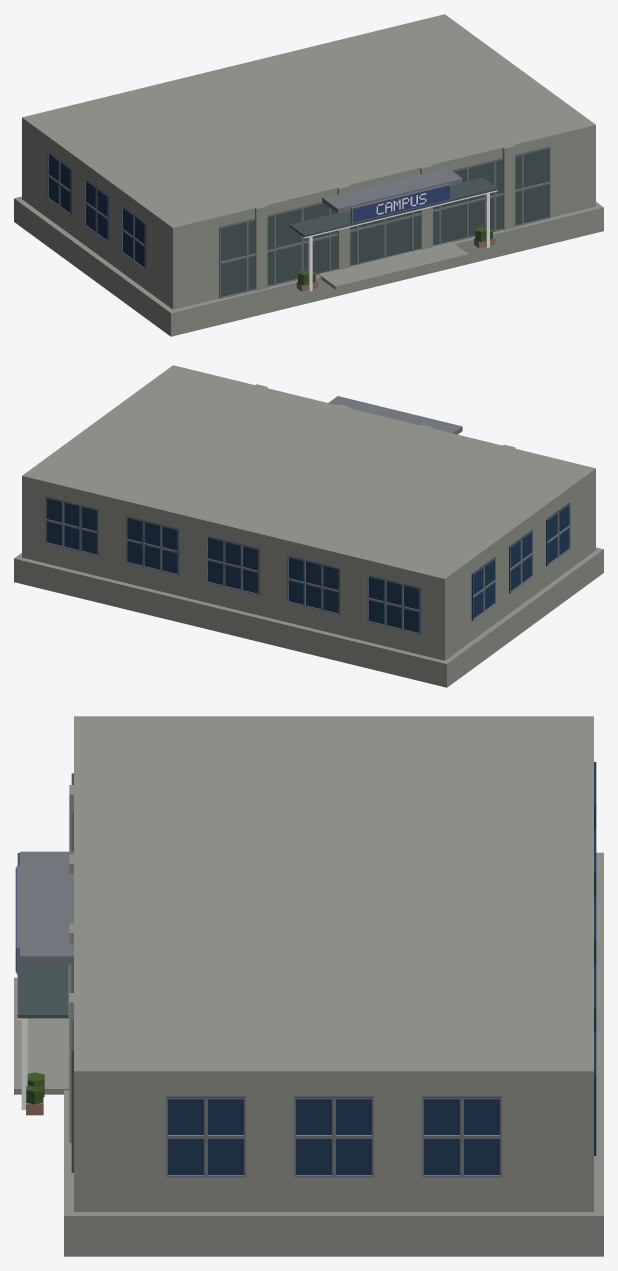
File: mashup-main-base-prebuilt_close.fbx
3 views of the same model, one above another, from view 1: azimuth 30°, elevation 25°; view 2: azimuth 150°, elevation 25°; view 3: azimuth 270°, elevation 25° (orthographic). The views are drawn at different scales.
Parts seen in each view (by area): view 1: a201.MainBase.001; view 2: a201.MainBase.001; view 3: a201.MainBase.001.
Part boxes in pixels (box(x1,y1,x2,y2)): a201.MainBase.001: box(14, 14, 603, 336); a201.MainBase.001: box(14, 365, 603, 687); a201.MainBase.001: box(14, 716, 603, 1256).
Bounding box in the file's own units: 21.5 × 5 × 14.75.
